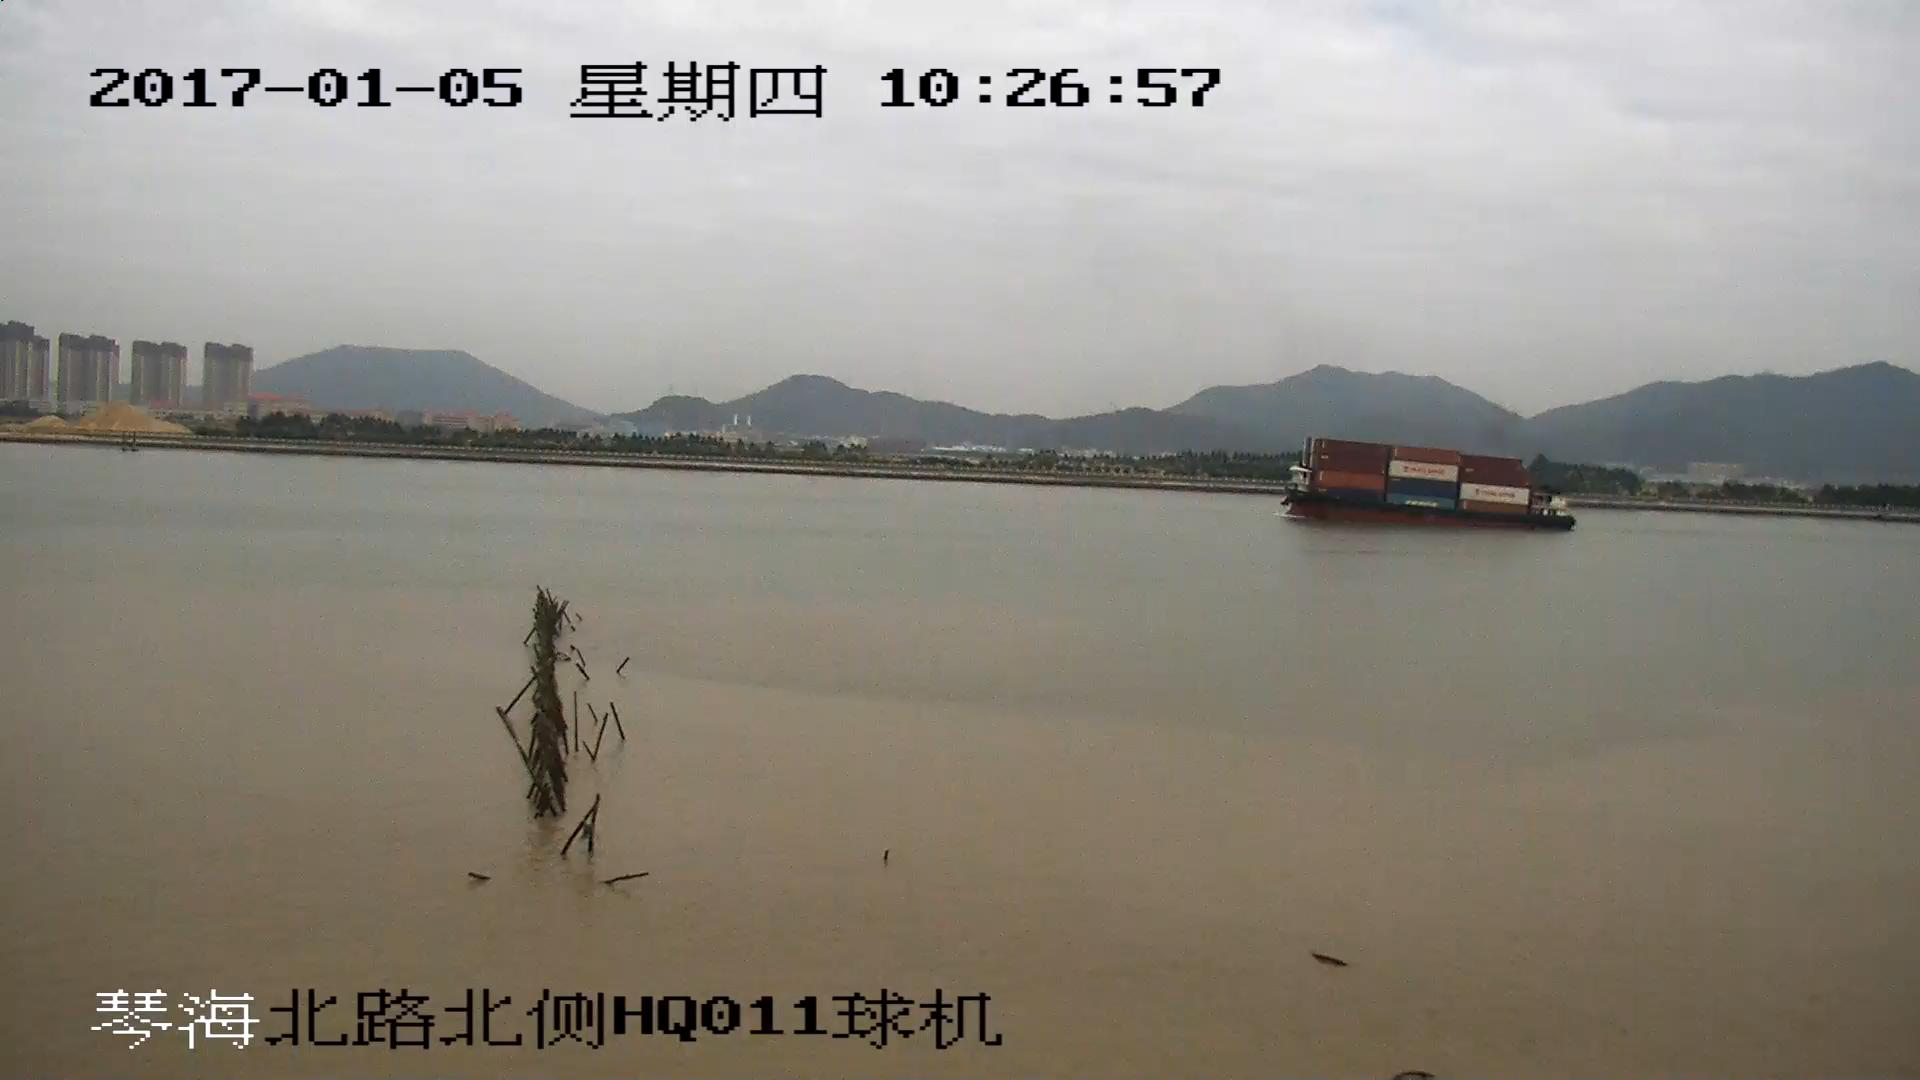container ship: (1275, 444, 1580, 529)
